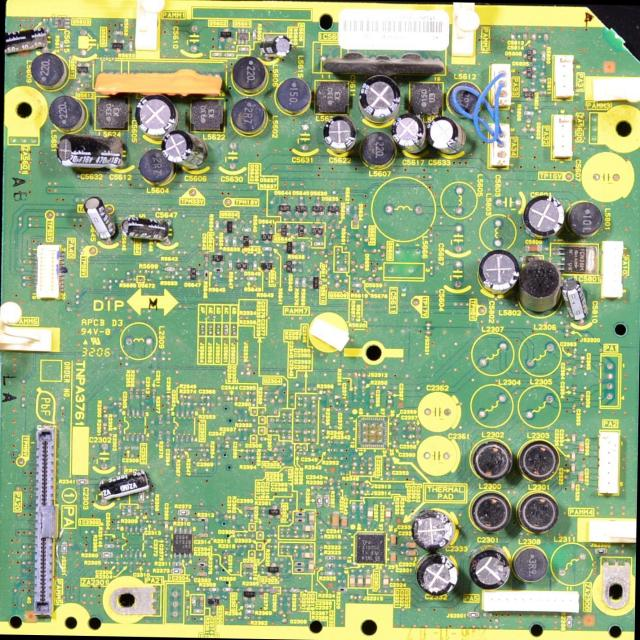Capacitor: (56, 136, 133, 174), (469, 545, 513, 588), (410, 509, 456, 550), (418, 555, 460, 597), (481, 248, 516, 298), (164, 129, 205, 171), (359, 75, 399, 116), (94, 472, 152, 500), (141, 93, 177, 138), (86, 198, 120, 244), (528, 189, 556, 235), (5, 28, 47, 58), (562, 280, 592, 322), (322, 119, 356, 155), (432, 122, 468, 154), (123, 220, 177, 240), (398, 118, 425, 149), (493, 191, 529, 213), (221, 140, 240, 175), (298, 119, 312, 153), (524, 243, 543, 252), (332, 512, 341, 528), (365, 575, 373, 589), (382, 575, 390, 588), (406, 549, 420, 556), (348, 575, 355, 589), (405, 541, 417, 549), (578, 471, 585, 484), (242, 562, 254, 569), (307, 561, 314, 573), (304, 524, 314, 532), (386, 508, 392, 521), (390, 534, 396, 547), (390, 553, 396, 566), (358, 575, 364, 588), (341, 517, 348, 528), (302, 552, 313, 559), (368, 508, 374, 520), (309, 512, 315, 524), (204, 250, 210, 262), (579, 442, 585, 454), (198, 533, 207, 540), (570, 482, 576, 492), (197, 571, 207, 577), (243, 506, 254, 511), (571, 433, 576, 444), (571, 452, 576, 462), (164, 521, 169, 530), (260, 587, 264, 598), (200, 596, 204, 607), (572, 463, 576, 473)
Connector: (32, 425, 62, 622), (31, 243, 70, 301), (481, 592, 585, 612), (597, 430, 621, 495), (602, 240, 623, 295)
IC: (356, 531, 387, 563), (172, 526, 193, 557)
Resistor Network: (99, 551, 114, 559), (178, 508, 192, 516), (227, 259, 235, 272), (245, 275, 258, 283), (231, 235, 238, 248), (104, 543, 116, 550), (170, 568, 184, 574), (223, 236, 230, 248), (252, 29, 259, 41), (112, 29, 124, 36), (522, 110, 535, 116), (252, 259, 258, 272), (126, 506, 133, 517), (197, 517, 208, 524), (324, 495, 330, 507), (351, 502, 357, 514), (171, 562, 183, 568), (288, 588, 300, 594), (164, 266, 176, 272), (262, 246, 272, 253), (316, 496, 322, 507), (296, 518, 307, 524), (128, 41, 134, 52), (337, 587, 348, 593), (223, 52, 234, 58), (243, 608, 254, 614), (212, 267, 223, 273), (164, 274, 175, 280), (76, 480, 89, 485), (359, 502, 364, 514), (295, 512, 305, 518), (178, 516, 188, 522), (326, 555, 336, 561), (198, 562, 208, 568), (324, 571, 334, 577), (210, 586, 220, 592), (223, 587, 233, 593), (192, 608, 204, 613), (345, 203, 350, 215), (242, 227, 252, 233), (294, 278, 300, 288), (238, 47, 249, 52), (541, 50, 546, 61), (325, 563, 335, 568), (212, 52, 222, 57), (192, 596, 197, 606), (215, 220, 220, 230), (353, 283, 362, 288), (294, 562, 305, 566), (245, 604, 256, 608), (60, 41, 64, 51), (294, 568, 304, 572), (314, 242, 324, 246), (337, 267, 347, 271), (204, 270, 208, 280), (303, 278, 306, 288)
Transistor: (242, 586, 258, 602), (267, 562, 282, 578), (267, 503, 280, 520), (207, 594, 219, 610), (55, 18, 72, 29), (236, 28, 249, 42), (78, 62, 90, 76), (220, 28, 232, 42), (111, 40, 122, 54)
